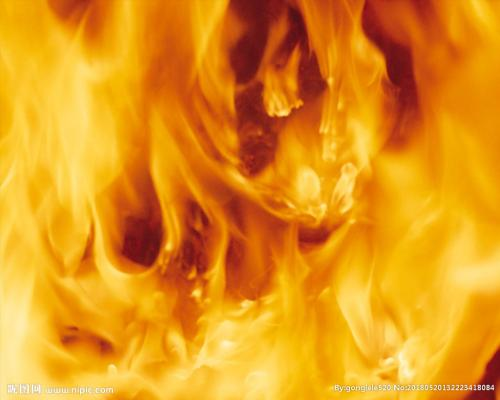fire: (9, 34, 490, 344)
